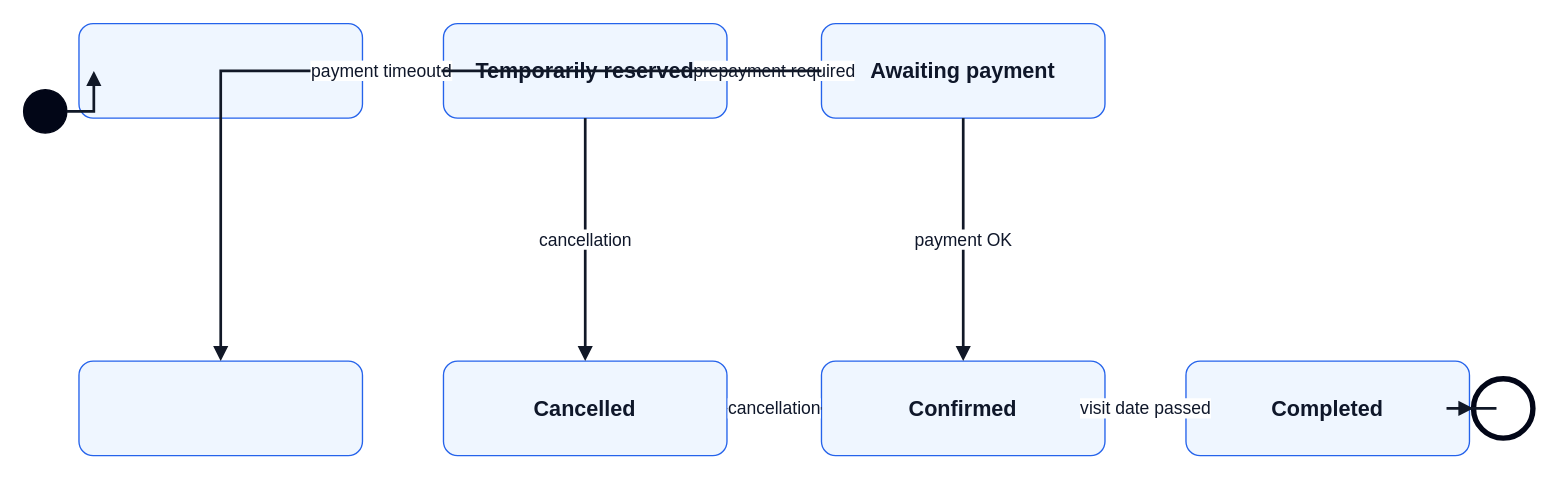
The diagram is 1559 pixels wide and 479 high, and some of its shapes have lost their labels. Here are the shapes that lost their labels. From the top down, the box of each, then its label:
(78, 22, 362, 118): New
(78, 360, 362, 456): Expired
